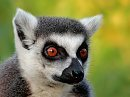cat: (0, 7, 104, 96)
